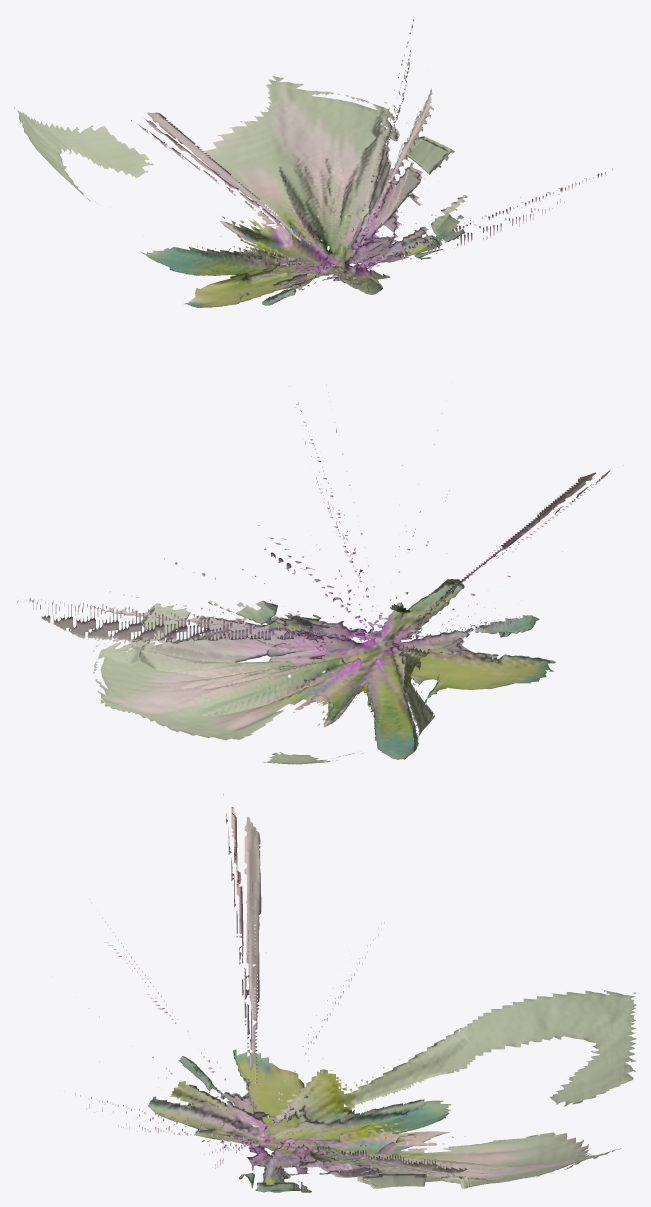
Rendered from twinkle-fairy-village-1-1_collider.glb.
The picture shows the model from 3 angles, top to bottom: view 1: azimuth 30°, elevation 25°; view 2: azimuth 150°, elevation 25°; view 3: azimuth 270°, elevation 25°; orthographic projection. The views are drawn at different scales.
Parts seen in each view (by area): view 1: world; view 2: world; view 3: world.
Part boxes in pixels (bbox=[...]): world: bbox=[14, 19, 612, 307]; world: bbox=[17, 385, 623, 764]; world: bbox=[51, 794, 636, 1192].
Size of the model in its own units: 329 by 173 by 381.
